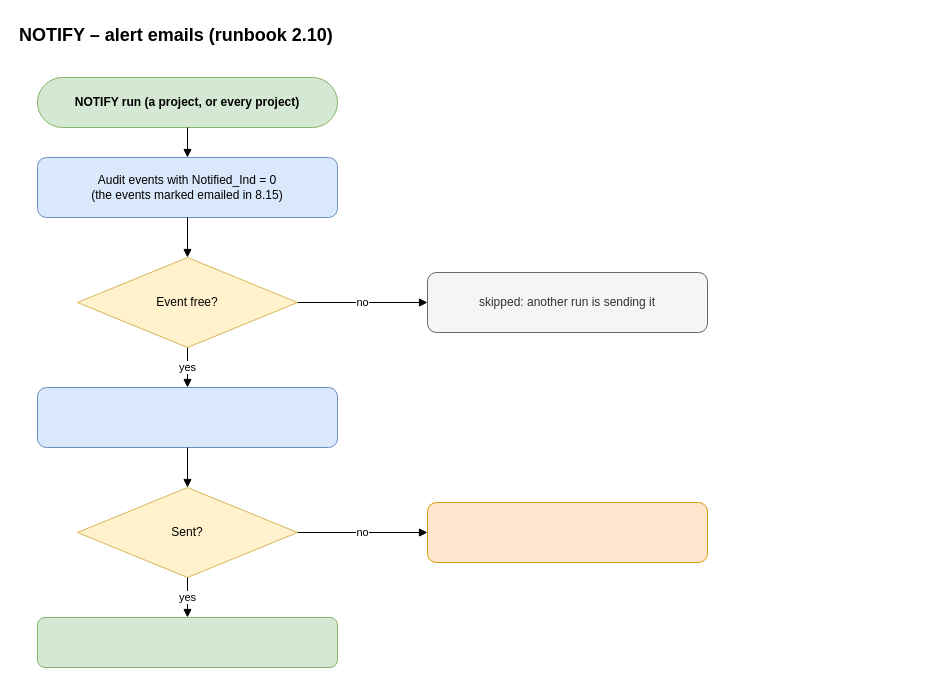
Some shapes in this 934 by 685 pixel diagram are drawn without their labels. Each missing label, with the centre of its shape:
"Notified_Ind = 1" goes at (x=187, y=642).
"One email per event to email_recipient" goes at (x=187, y=417).
"Stays unsent: tried again next run" goes at (x=567, y=532).
